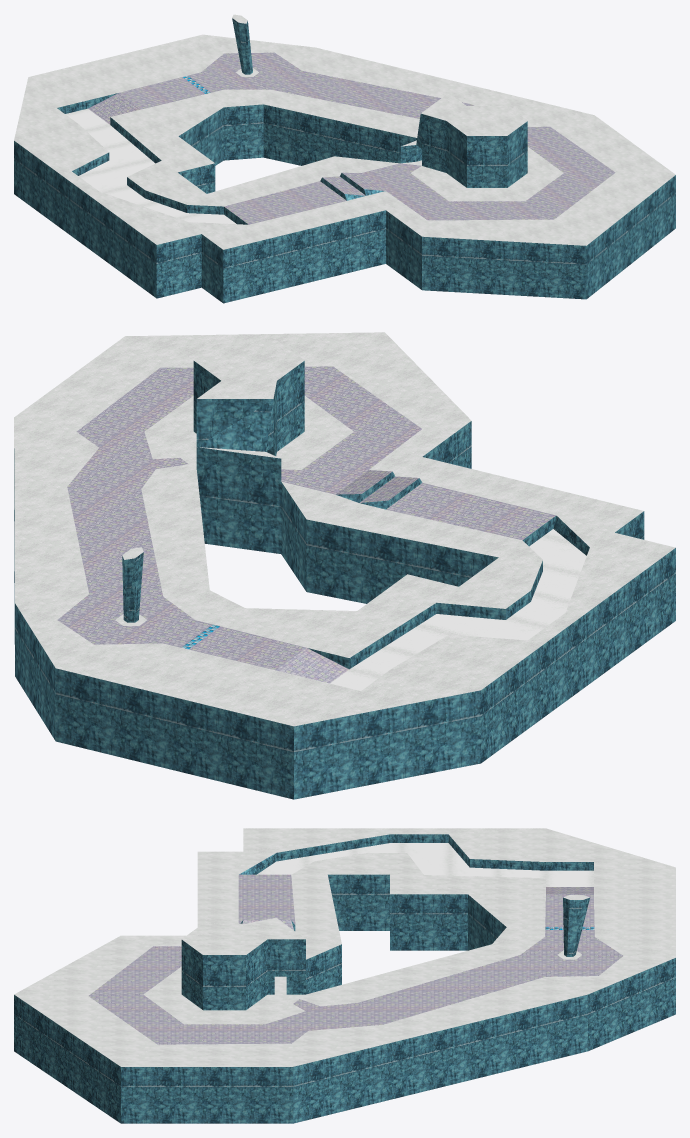
3 renders of one model, top to bottom at view 1: azimuth 30°, elevation 25°; view 2: azimuth 150°, elevation 25°; view 3: azimuth 270°, elevation 25°, orthographic. The views are drawn at different scales.
Parts seen in each view (by area): view 1: course-SKP--Wall.004, course-SKP--Offroad.003, course-SKP--Road.005, course-SKP--Road1.003; view 2: course-SKP--Offroad.003, course-SKP--Wall.004, course-SKP--Road.005, course-SKP--Road1.003; view 3: course-SKP--Offroad.003, course-SKP--Wall.004, course-SKP--Road.005, course-SKP--Road1.003.
Boxes of the visible parts, x1,y1,x2,y2 form: course-SKP--Wall.004: [14, 18, 675, 303]; course-SKP--Offroad.003: [14, 14, 675, 249]; course-SKP--Road.005: [88, 52, 615, 224]; course-SKP--Road1.003: [65, 108, 236, 224]; course-SKP--Offroad.003: [14, 332, 675, 726]; course-SKP--Wall.004: [14, 361, 675, 799]; course-SKP--Road.005: [57, 366, 555, 683]; course-SKP--Road1.003: [330, 529, 586, 690]; course-SKP--Offroad.003: [14, 828, 675, 1066]; course-SKP--Wall.004: [14, 834, 675, 1123]; course-SKP--Road.005: [88, 874, 622, 1044]; course-SKP--Road1.003: [257, 843, 593, 886].
Size of what is drawn, in the model's own units: 41257 by 9032 by 48393.
6 materials, 5 textured.
